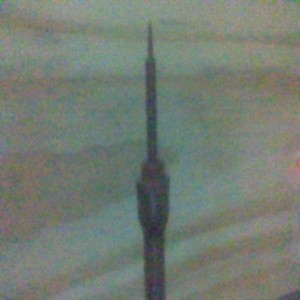solder: (135, 18, 170, 300)
